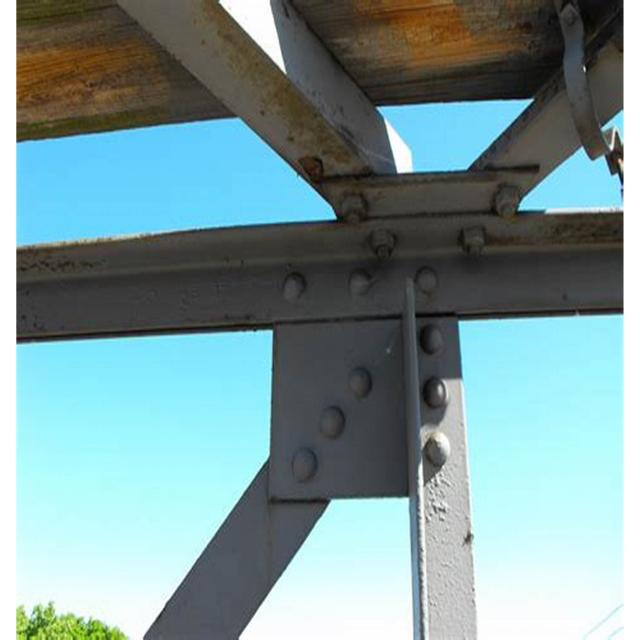blur bolt: (367, 228, 398, 263), (458, 223, 488, 258), (339, 190, 367, 227), (493, 184, 522, 219)
